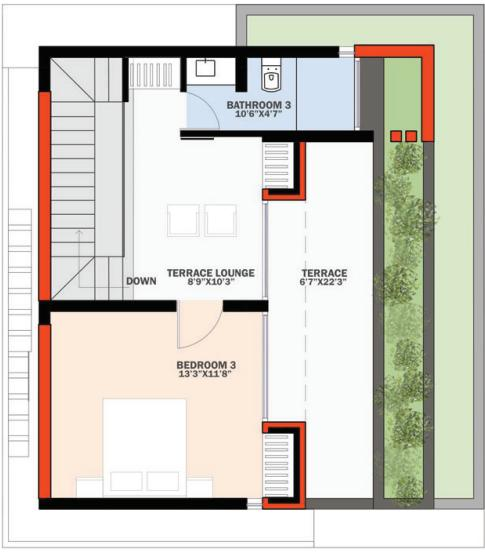Bed: (103, 399, 186, 497)
Bedroom: (46, 300, 262, 501)
Sofa: (167, 202, 204, 238), (204, 204, 234, 236)
Terrace: (268, 143, 373, 500)
Terrace Lounge: (131, 90, 261, 300)
Wardrobe: (264, 433, 293, 497), (260, 142, 293, 188), (130, 59, 179, 88)
commode: (259, 56, 288, 92)
door: (174, 298, 229, 354), (185, 93, 223, 130)
sink: (195, 60, 216, 75)
toilet: (181, 49, 359, 124)
